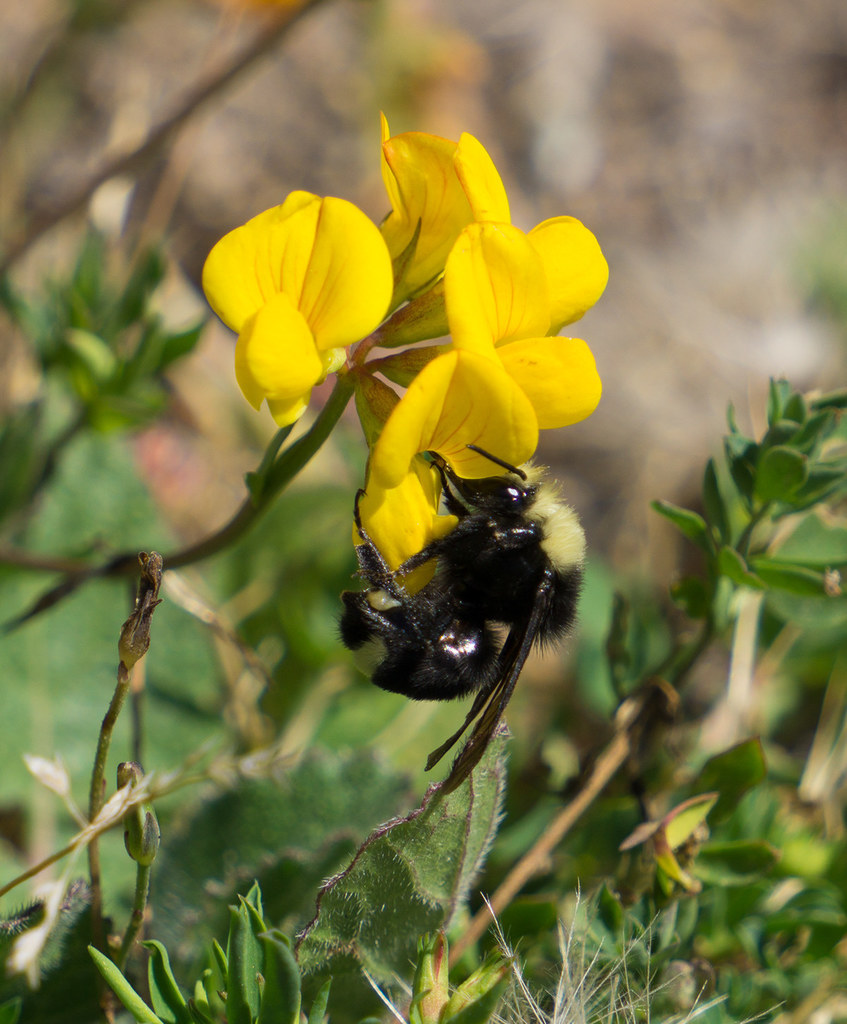bumblebee: (339, 441, 586, 801)
